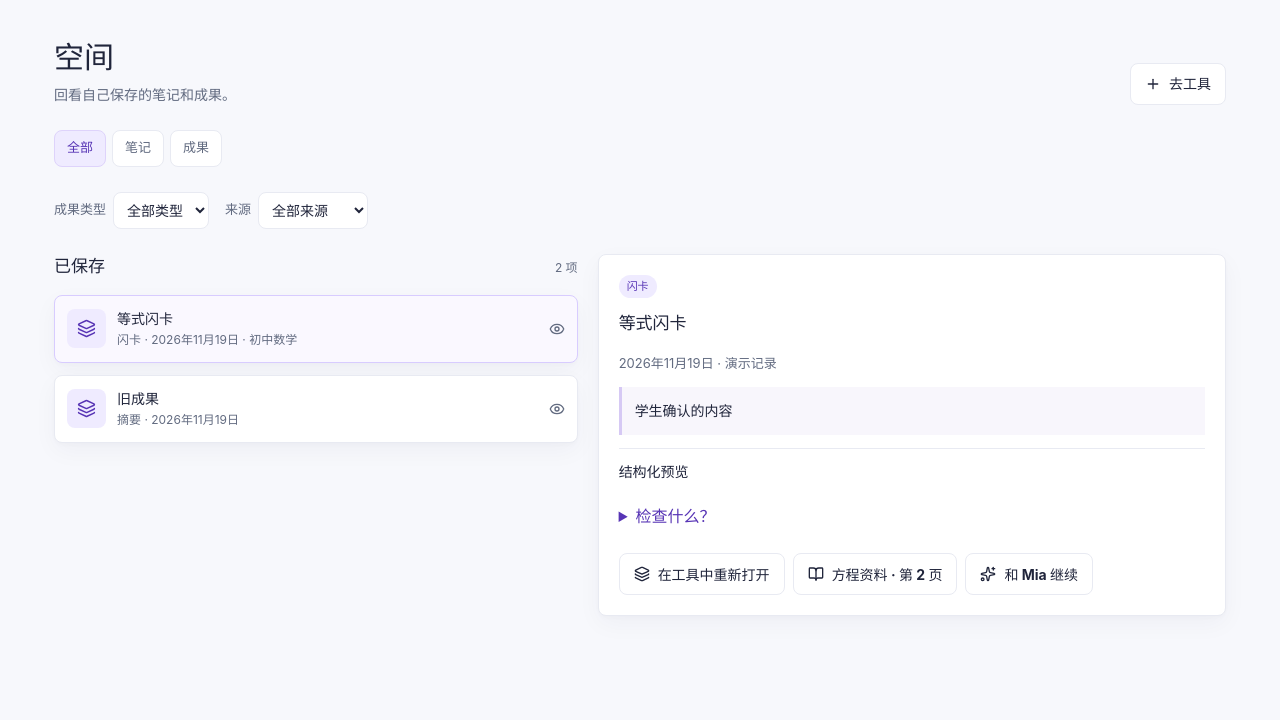
preserves structured and legacy artifacts while filtering by provenance
The width and height of the screenshot is (1280, 720).
Check: the text "学生确认的内容" is shown, box [619, 387, 1205, 435]
Check: the element named "结构化成果" is shown, box [619, 448, 1205, 540]
Select "未关联来源" in the dropdown labelled "来源". click: (313, 210)
box: [258, 192, 368, 228]
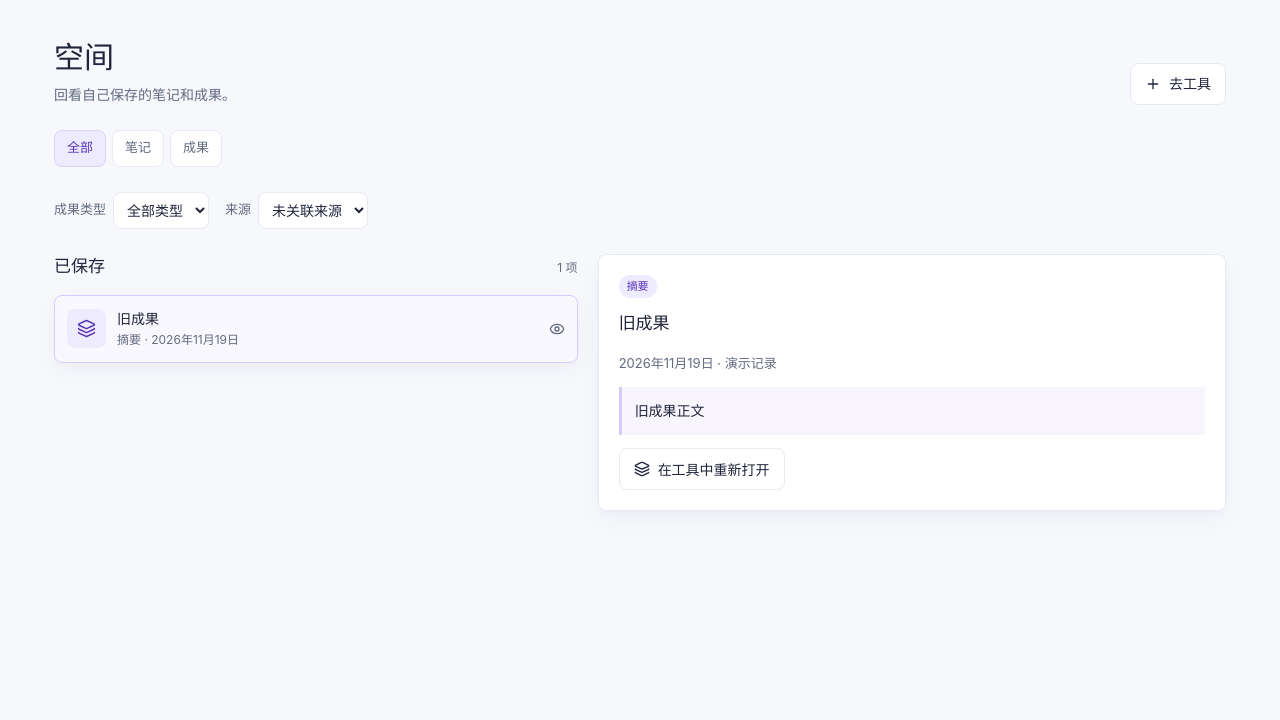
Check: the text "旧成果正文" is shown, box [619, 387, 1205, 435]
Check: the element "结构化成果" is gone
